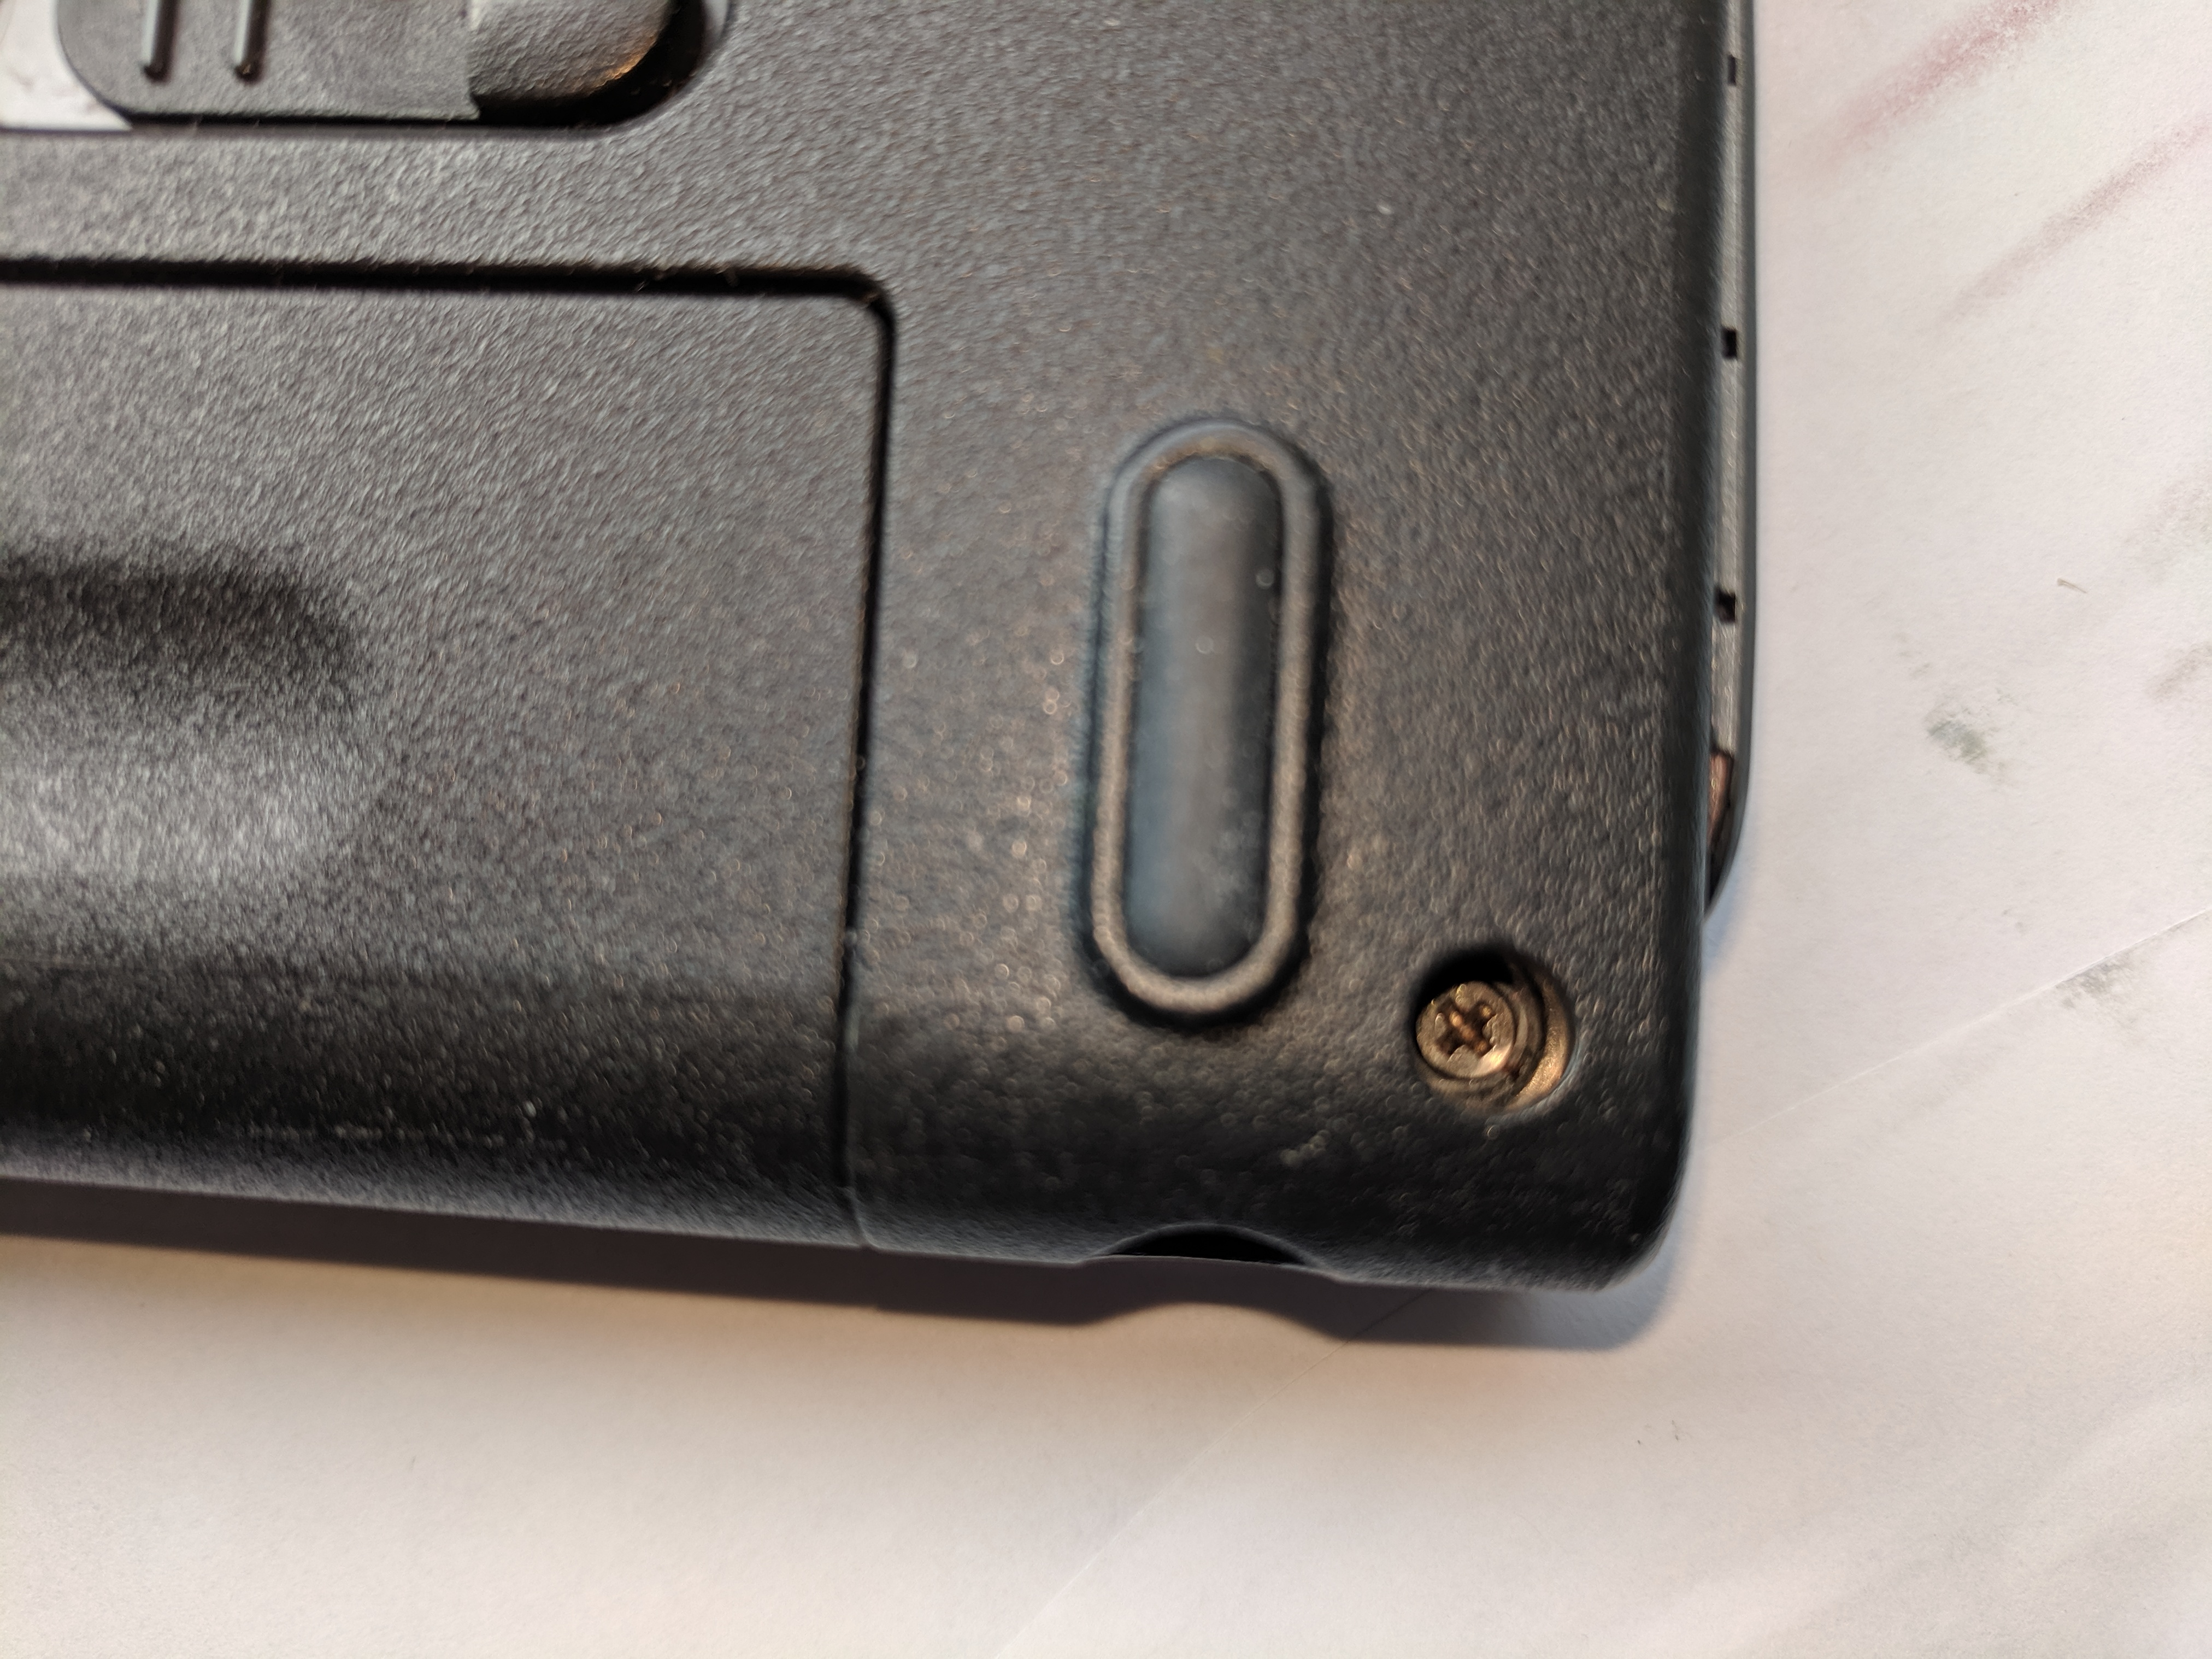cross_recessed_screw: (1399, 941, 1538, 1093)
